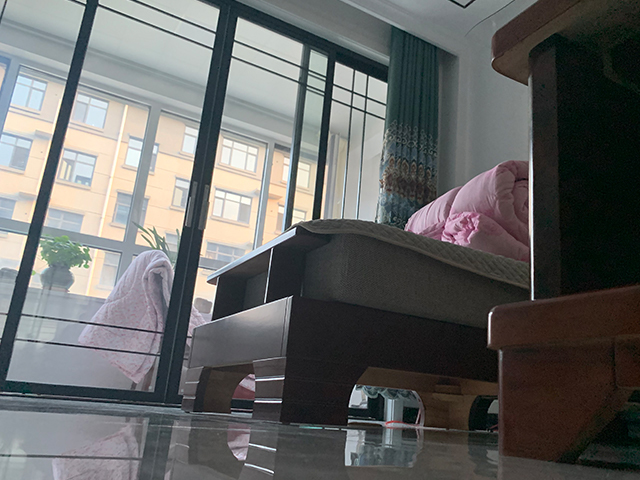curtain: (380, 28, 445, 233)
sofa: (180, 216, 532, 432)
